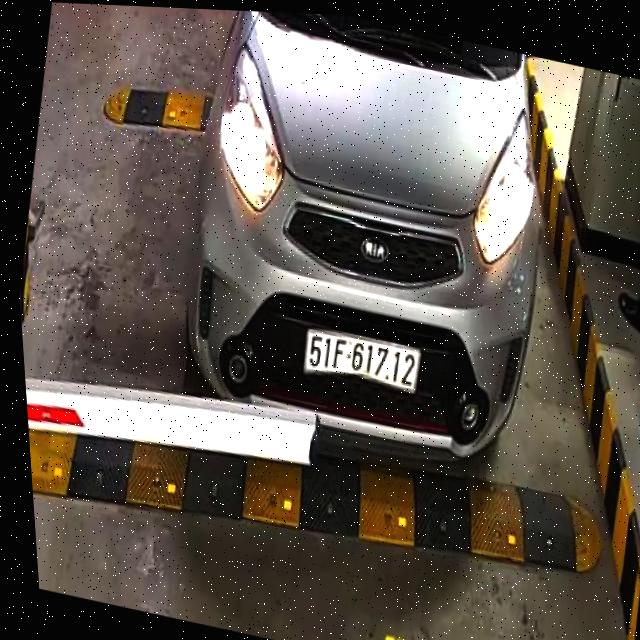car: (139, 6, 597, 488)
plate: (294, 322, 424, 399)
